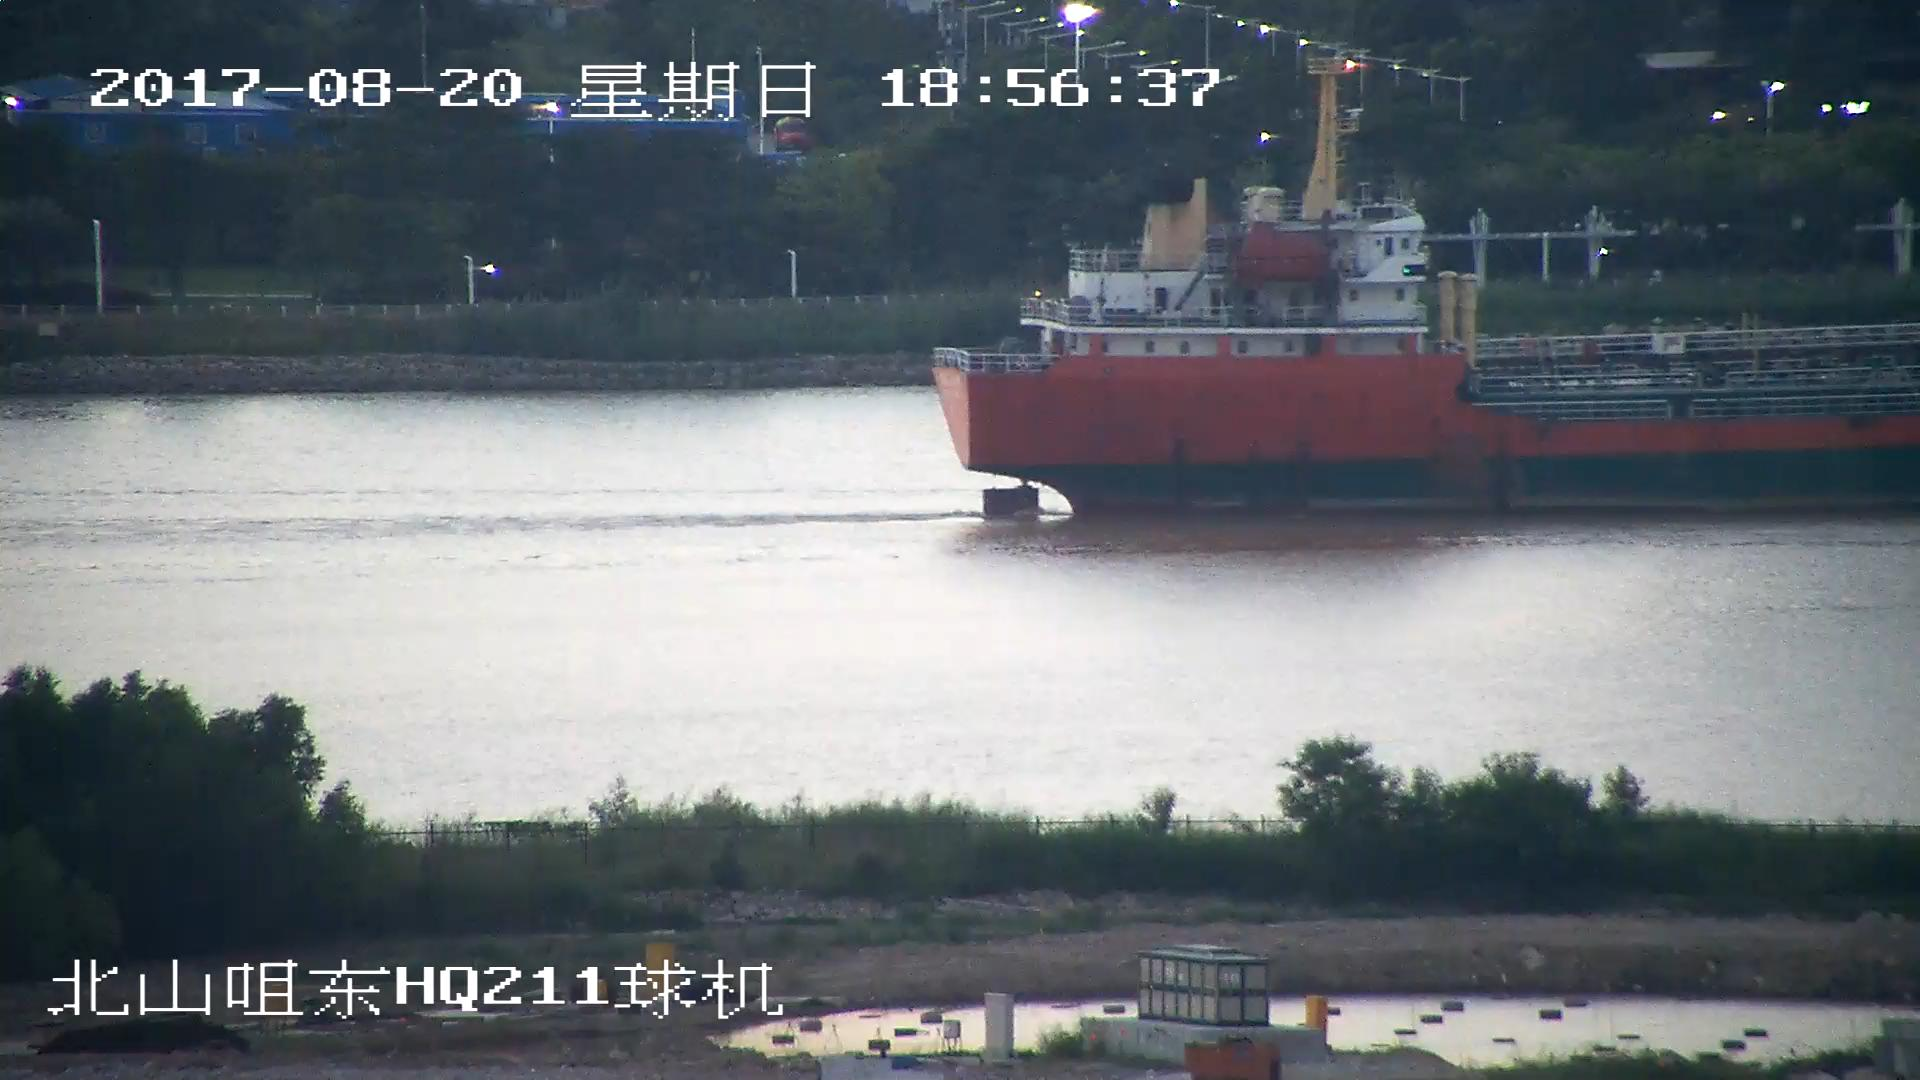general cargo ship: (923, 120, 1920, 512)
